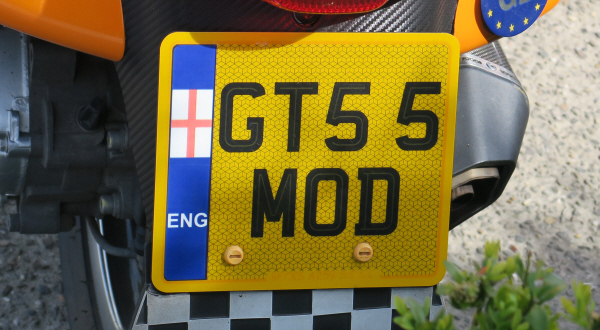license_plate: (152, 30, 460, 290)
